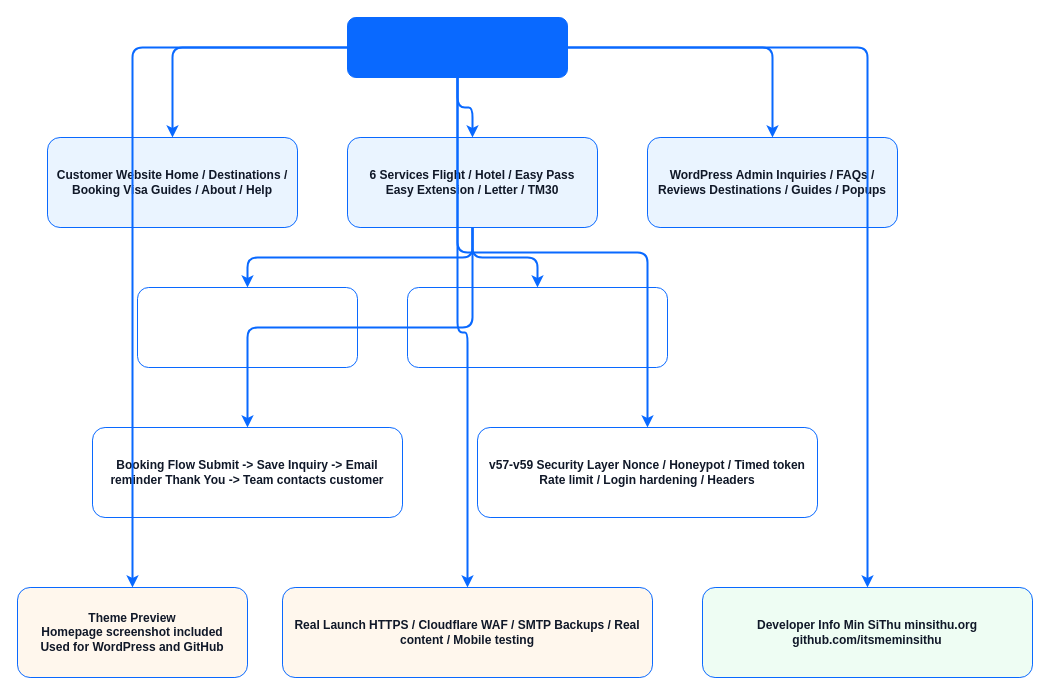
Image size: 1050x695. Some labels were removed from this diagram. The box of each missing label's shape, as (x1, y1, x2, y2) in pixels:
Easy Visa v59: (346, 16, 568, 78)
Letter Service Myanmar only 4 letter types: (136, 286, 358, 368)
TM30 Service Bangkok / Chiang Mai / Mae Sot No passport upload: (406, 286, 668, 368)
